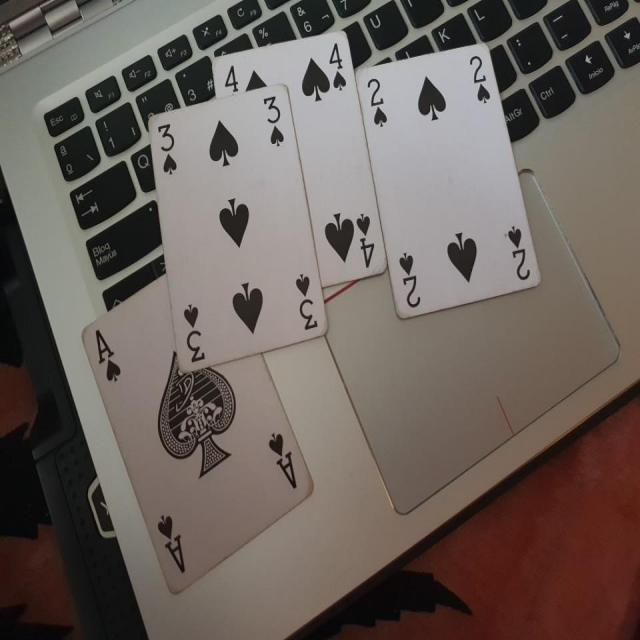2 Spades: (352, 27, 550, 327)
3 Spades: (146, 84, 334, 375)
4 Spades: (209, 29, 390, 290)
A Spades: (80, 261, 320, 595)
